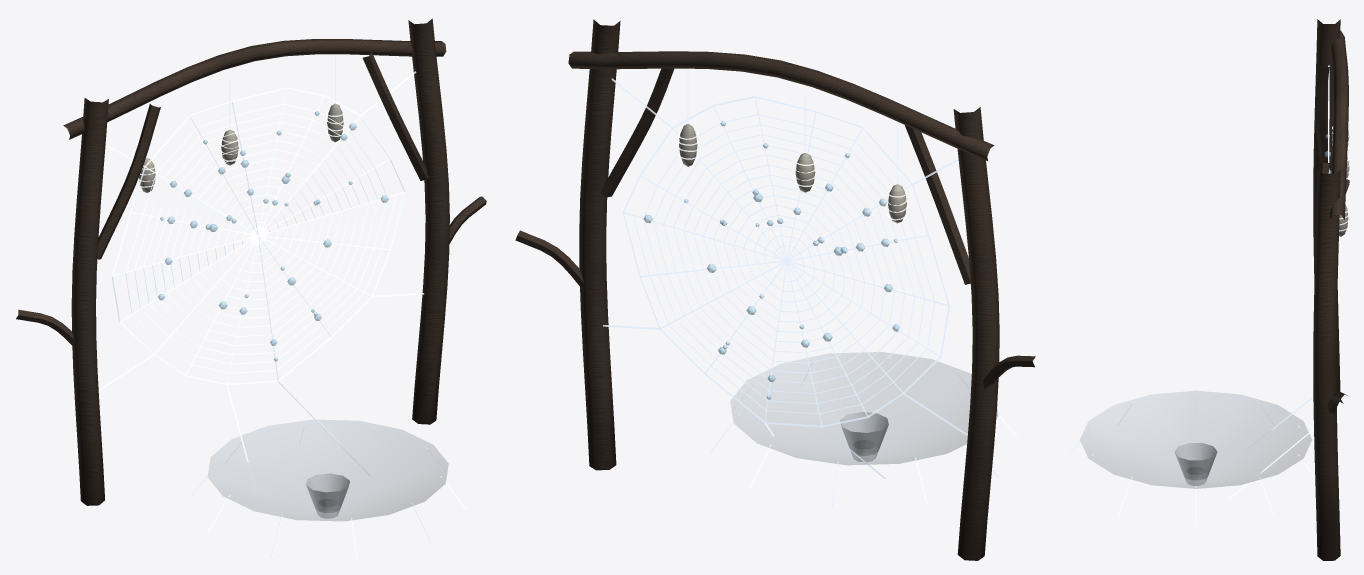
File: gang_tisseuses_1.glb
The picture shows the model from 3 angles, left to right: view 1: azimuth 30°, elevation 25°; view 2: azimuth 150°, elevation 25°; view 3: azimuth 270°, elevation 25°; orthographic projection. The views are drawn at different scales.
Parts seen in each view (by area): view 1: habitat_tisseuses, group_7; view 2: habitat_tisseuses, group_7; view 3: group_7, habitat_tisseuses.
Boxes of the visible parts, <box> form: habitat_tisseuses: <box>16,18,486,560</box>; group_7: <box>207,419,448,521</box>; habitat_tisseuses: <box>515,19,1035,560</box>; group_7: <box>730,352,998,465</box>; group_7: <box>1080,390,1311,488</box>; habitat_tisseuses: <box>1069,19,1349,560</box>.
Bounding box in the file's own units: 62.49 × 52.18 × 33.77.
Materials: 7 (3 with a texture image).
